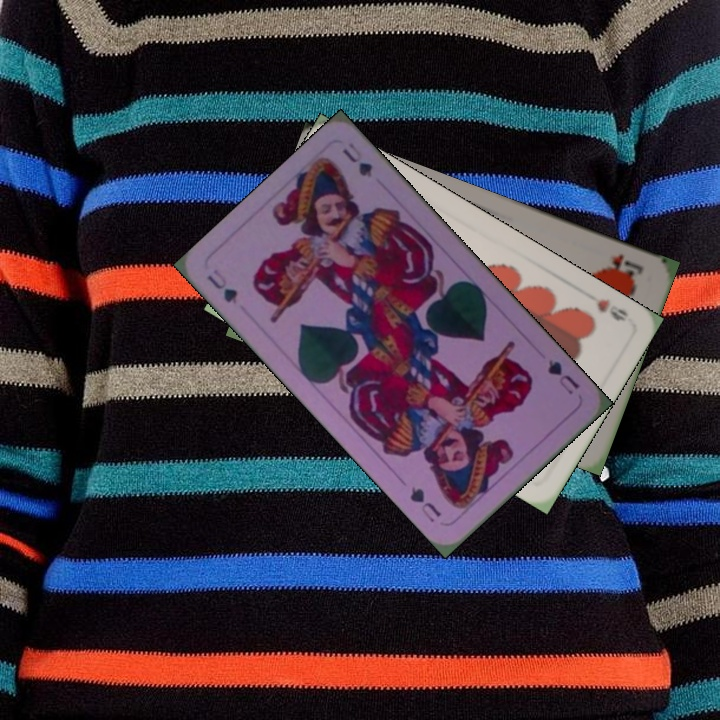GU: (541, 355, 583, 397), (202, 265, 240, 307)
H9: (592, 294, 630, 324)
HO: (598, 250, 646, 280)
